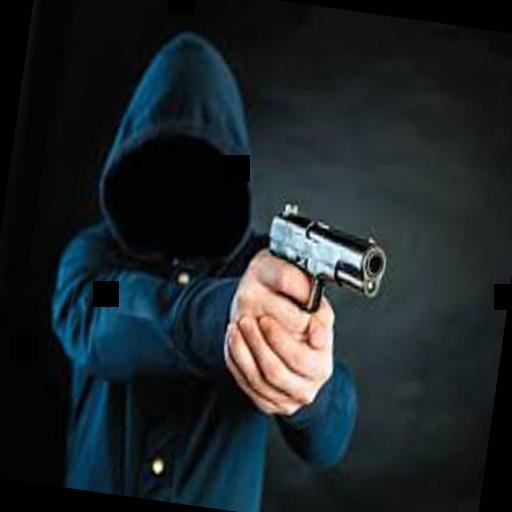Handgun: (248, 196, 394, 378)
